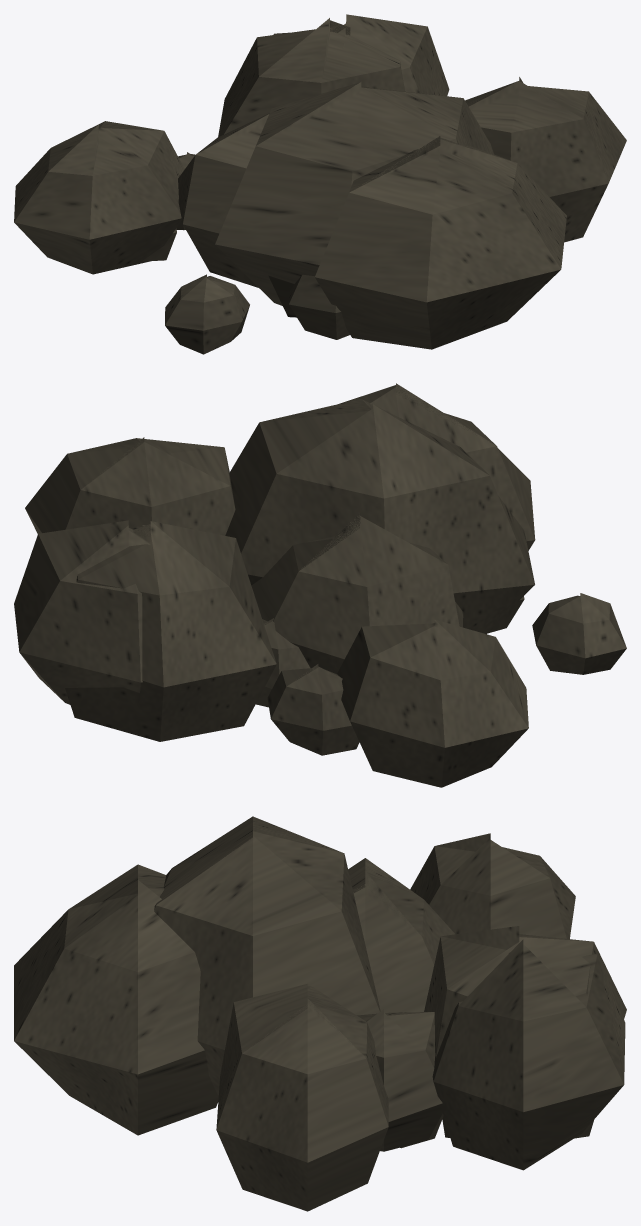
The model's file is PROP-43CEDB2E4D55_lod2.glb.
The picture shows the model from 3 angles, top to bottom: view 1: azimuth 30°, elevation 25°; view 2: azimuth 150°, elevation 25°; view 3: azimuth 270°, elevation 25°; orthographic projection. The views are drawn at different scales.
Parts seen in each view (by area): view 1: rock.009; view 2: rock.009; view 3: rock.009.
Part boxes in pixels (<box>): rock.009: <box>14,14,626,354</box>; rock.009: <box>14,383,626,787</box>; rock.009: <box>14,816,626,1211</box>.
Bounding box in the file's own units: 1.27 × 0.4662 × 1.09.
1 material, 1 textured.
